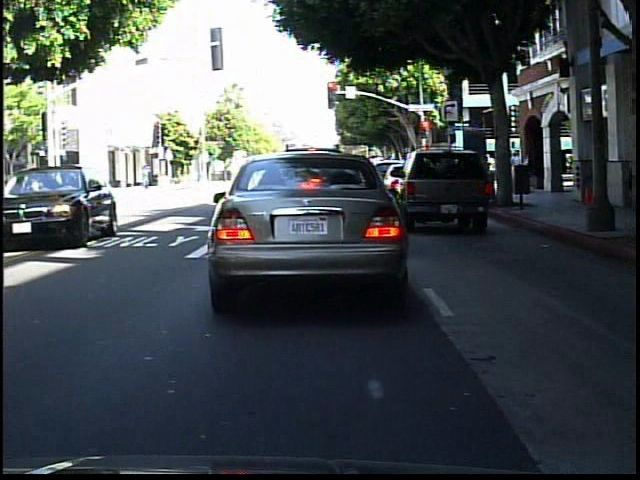person: (590, 143, 612, 217), (619, 141, 639, 220), (66, 161, 82, 200), (37, 168, 52, 206), (55, 163, 68, 206), (140, 161, 156, 192)
